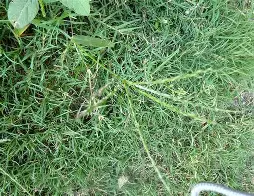weed: (0, 0, 253, 194)
